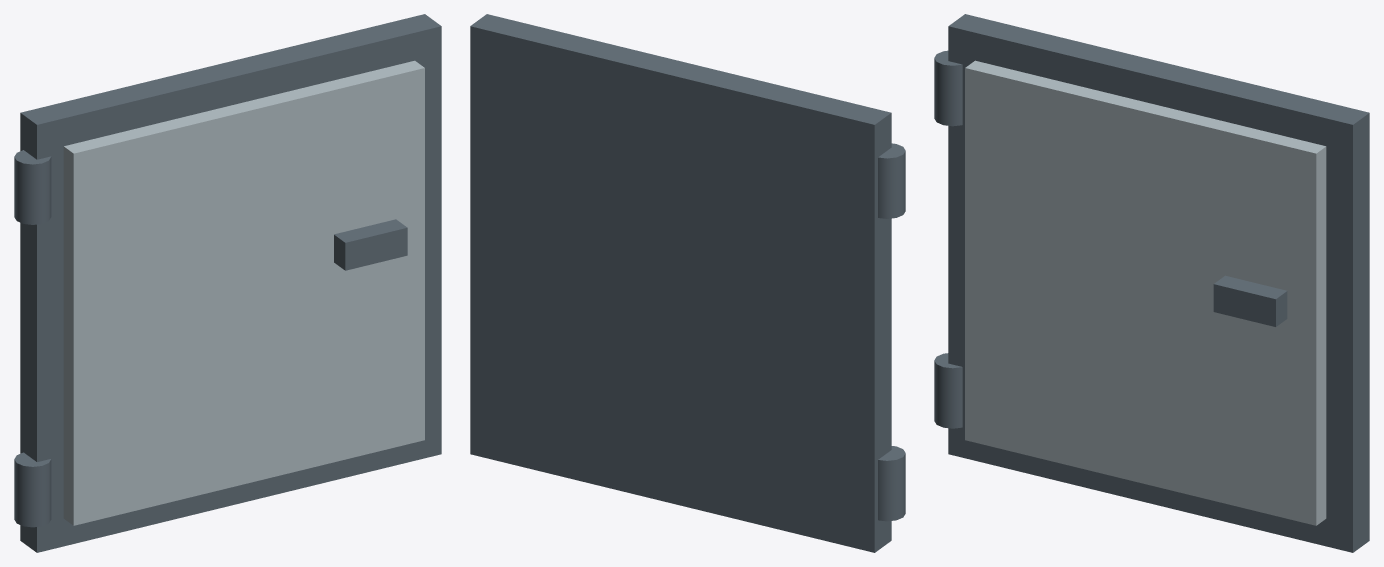
Rendered from eagle_ascent.forward_hatch.glb.
The picture shows the model from 3 angles, left to right: view 1: azimuth 30°, elevation 25°; view 2: azimuth 150°, elevation 25°; view 3: azimuth 330°, elevation 25°; orthographic projection.
Visible parts, largest first — view 1: eagle_ascent.forward_hatch.mesh; view 2: eagle_ascent.forward_hatch.mesh; view 3: eagle_ascent.forward_hatch.mesh.
Boxes of the visible parts, x1,y1,x2,y2 form: eagle_ascent.forward_hatch.mesh: (14,14,441,552); eagle_ascent.forward_hatch.mesh: (470,14,905,552); eagle_ascent.forward_hatch.mesh: (934,14,1369,552).
Bounding box in the file's own units: 0.946 × 0.92 × 0.149.
